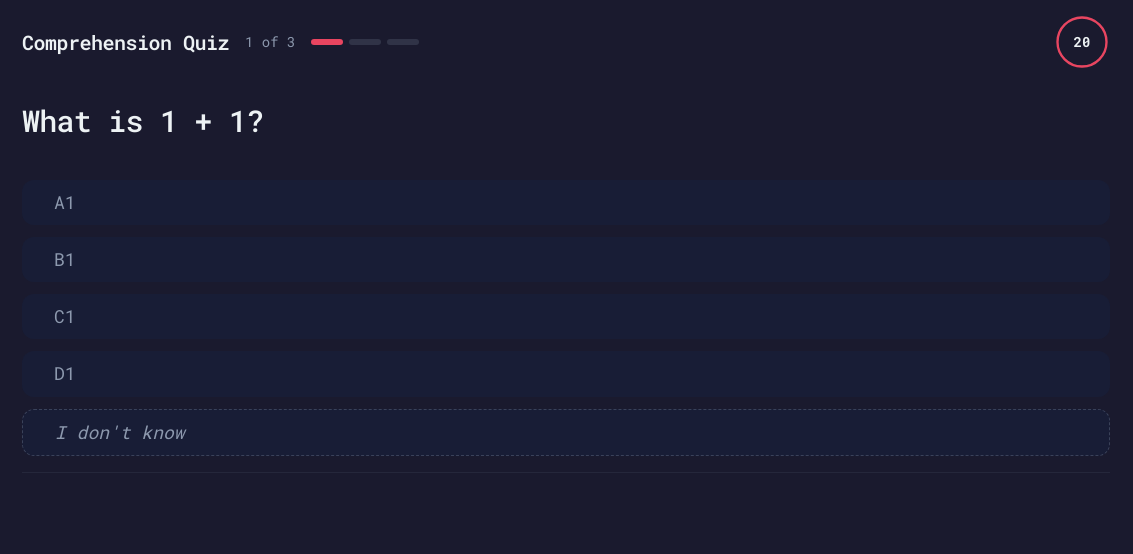
Test: PvpQuiz › shows Finish Quiz on the last question
Click the button "B1" at [65, 259], box [22, 237, 1110, 282]
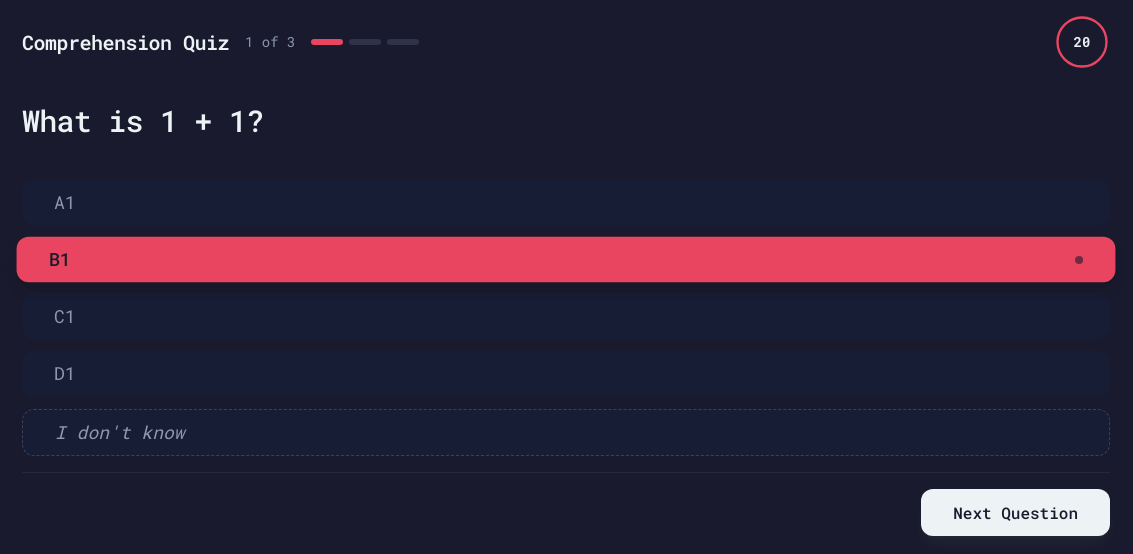
Click the button "Next Question" at [1016, 512], box [921, 489, 1110, 536]
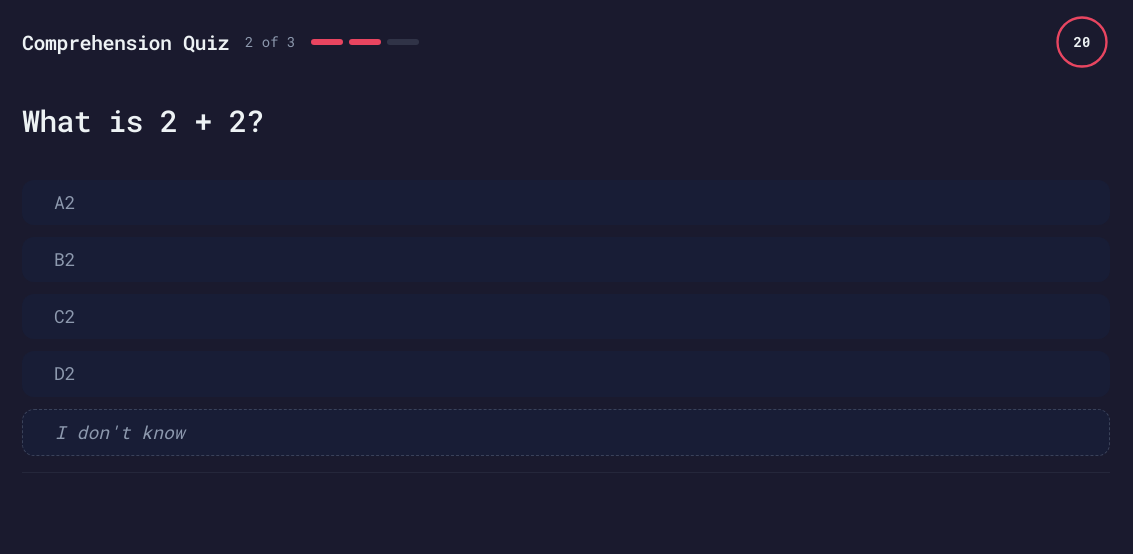
Click the button "C2" at [65, 316], box [22, 294, 1110, 339]
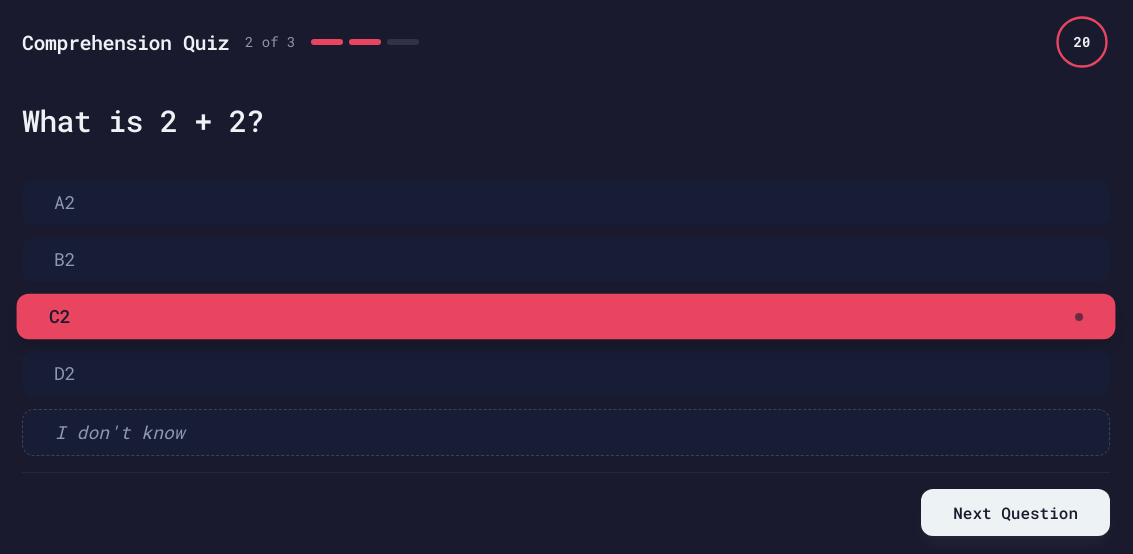
Click the button "Next Question" at [1016, 512], box [921, 489, 1110, 536]
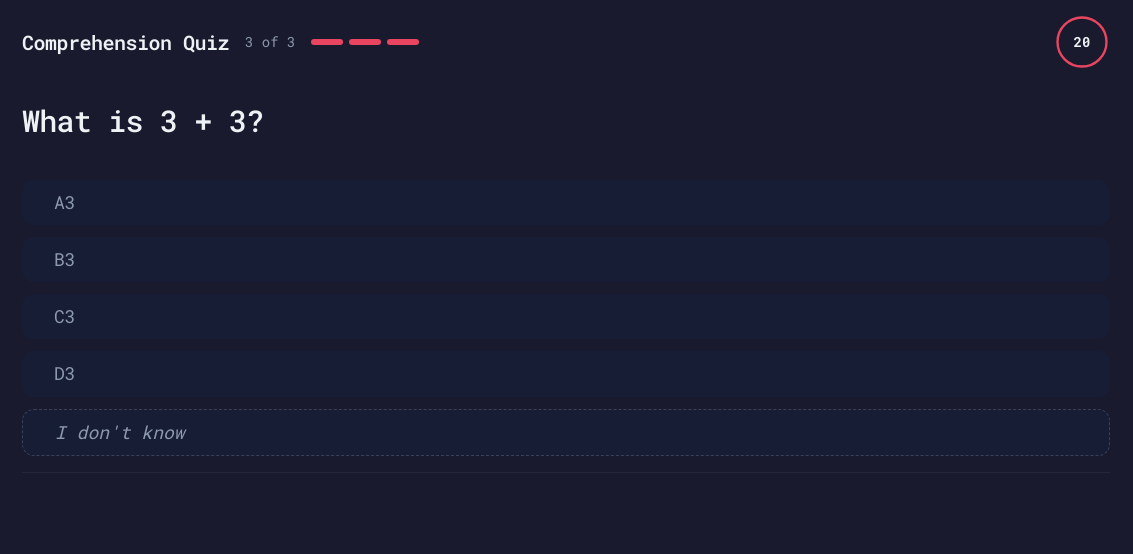
Click the button "B3" at [65, 259], box [22, 237, 1110, 282]
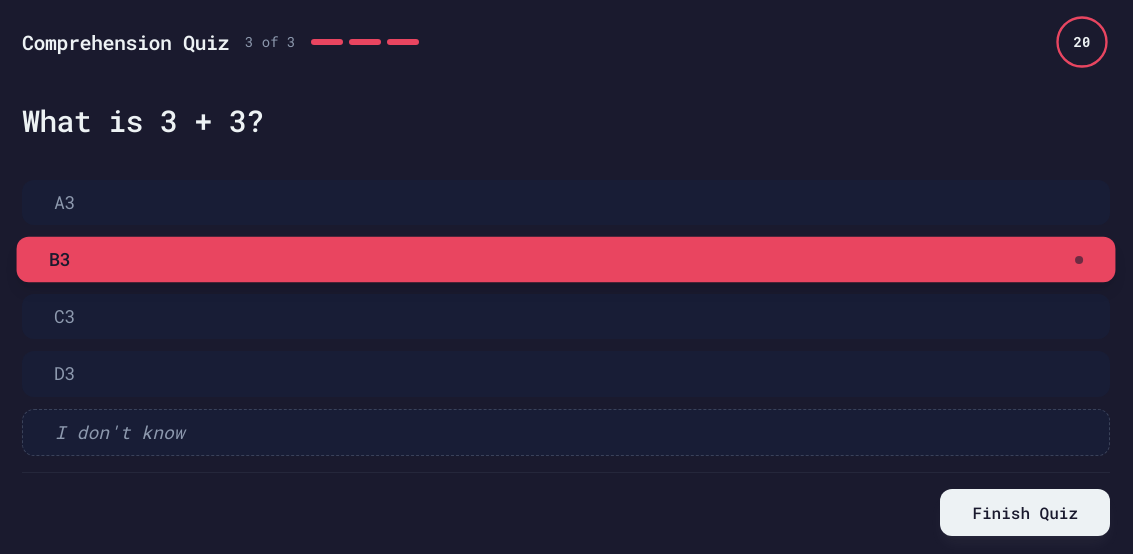
Now the button "Finish Quiz" is shown, box [940, 489, 1110, 536]
